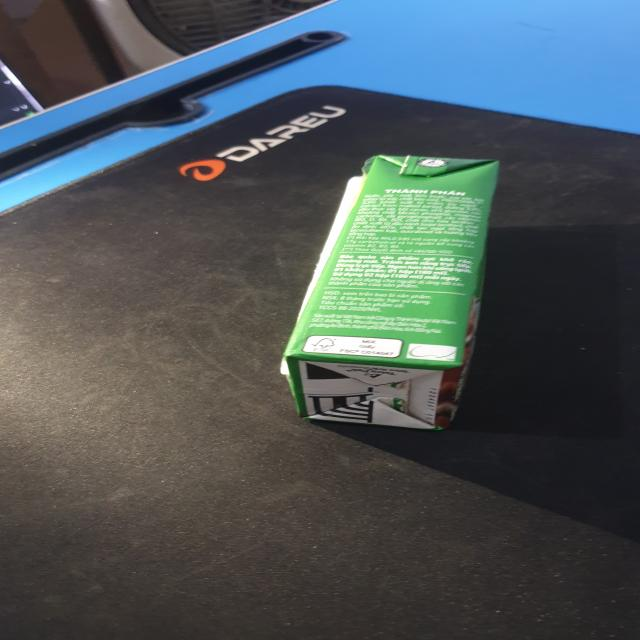Milo: (283, 155, 506, 430)
